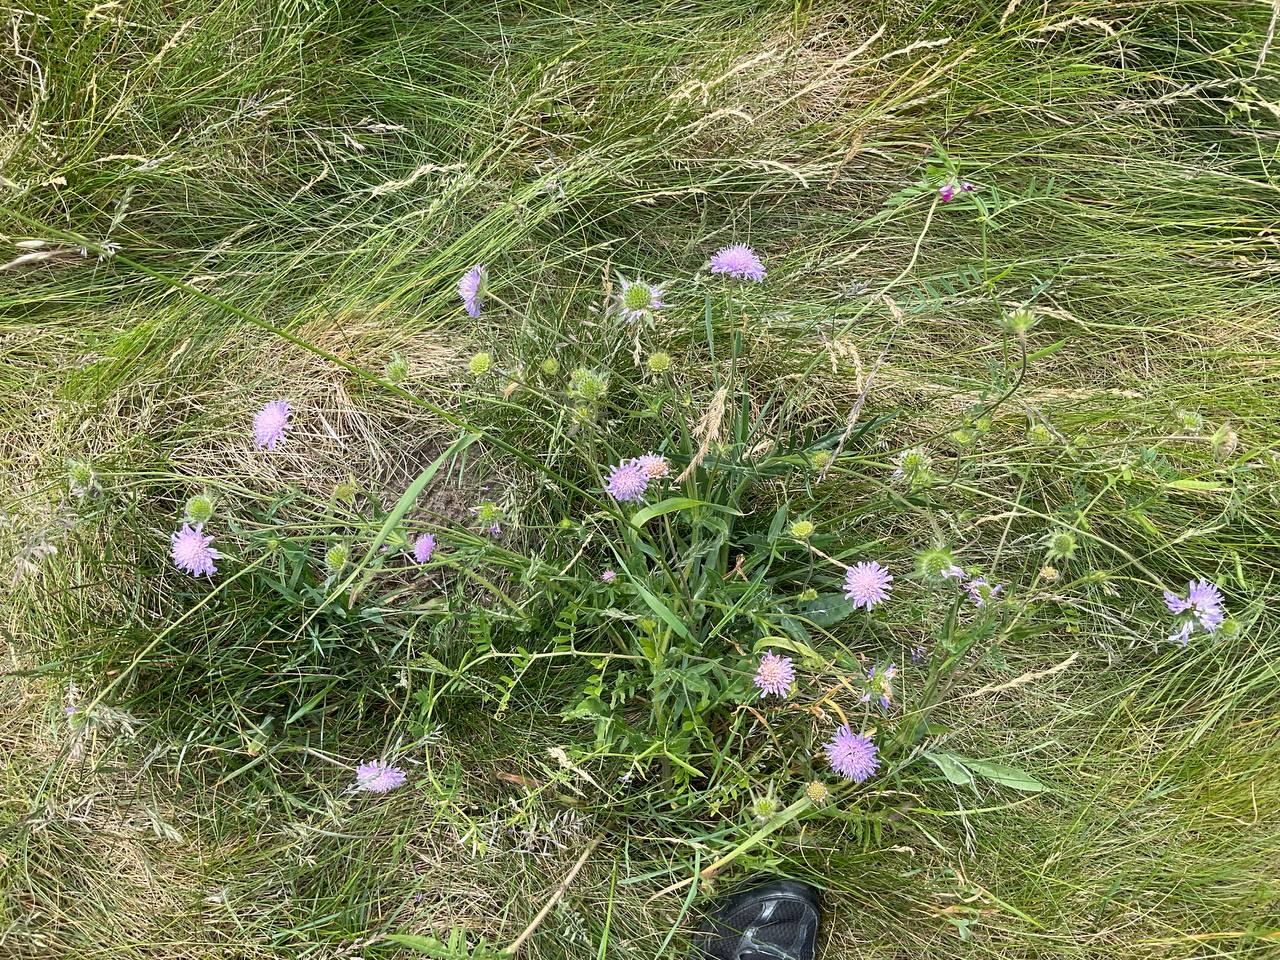knautia-arvensis: (51, 173, 1252, 888)
